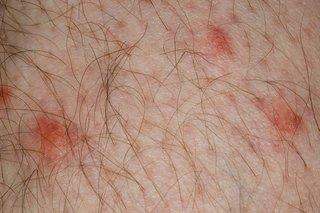Gnat-bites: (207, 17, 238, 62), (274, 104, 308, 142), (34, 117, 66, 153), (0, 83, 20, 114)
